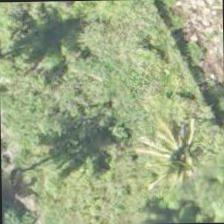Kelapa_Sawit: (146, 115, 223, 208)
